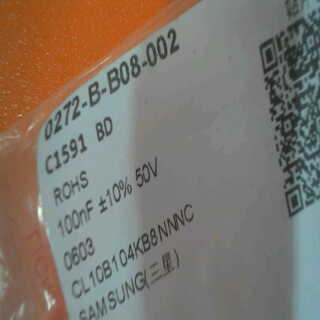100nF: (49, 199, 94, 241)
